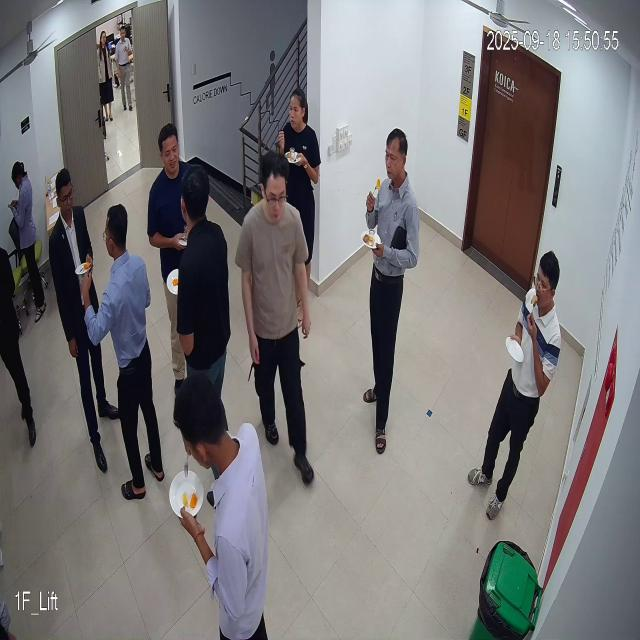face: (259, 154, 290, 225), (382, 123, 411, 184), (531, 252, 560, 312), (157, 124, 181, 178), (55, 169, 76, 219)
